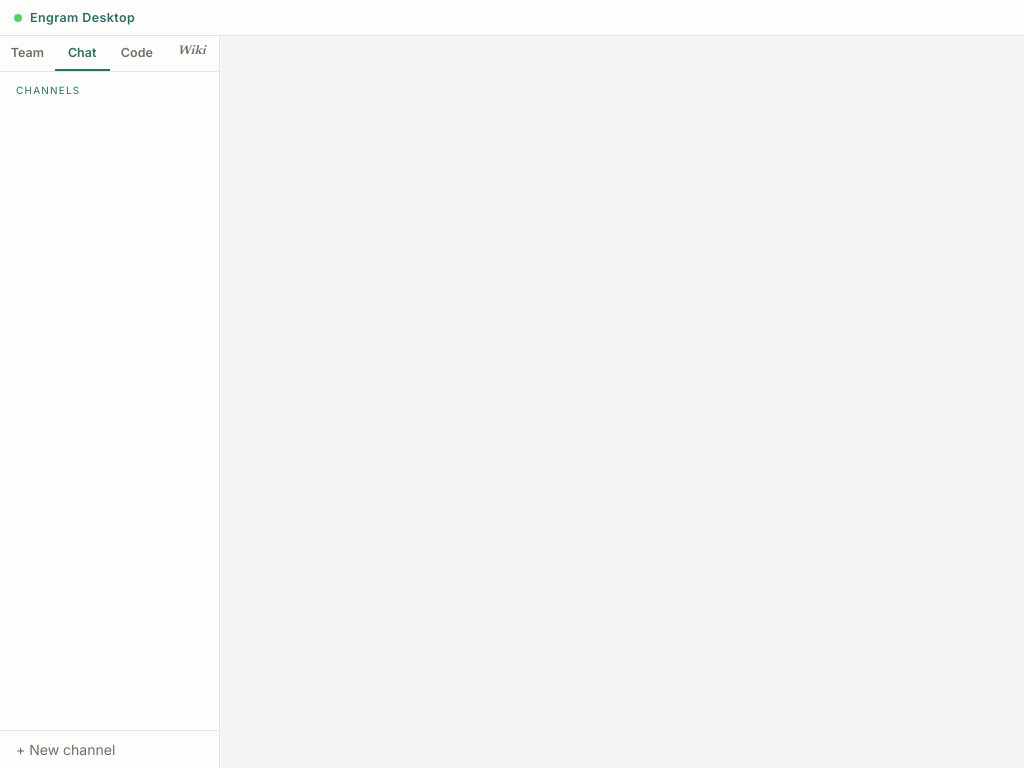
Test: team 채널은 기본 연결로만 스코프된다 — 다른 연결의 동명 team 채널·기록과 안 섞인다
Click the text "Team": click(27, 52) [11, 45, 44, 60]
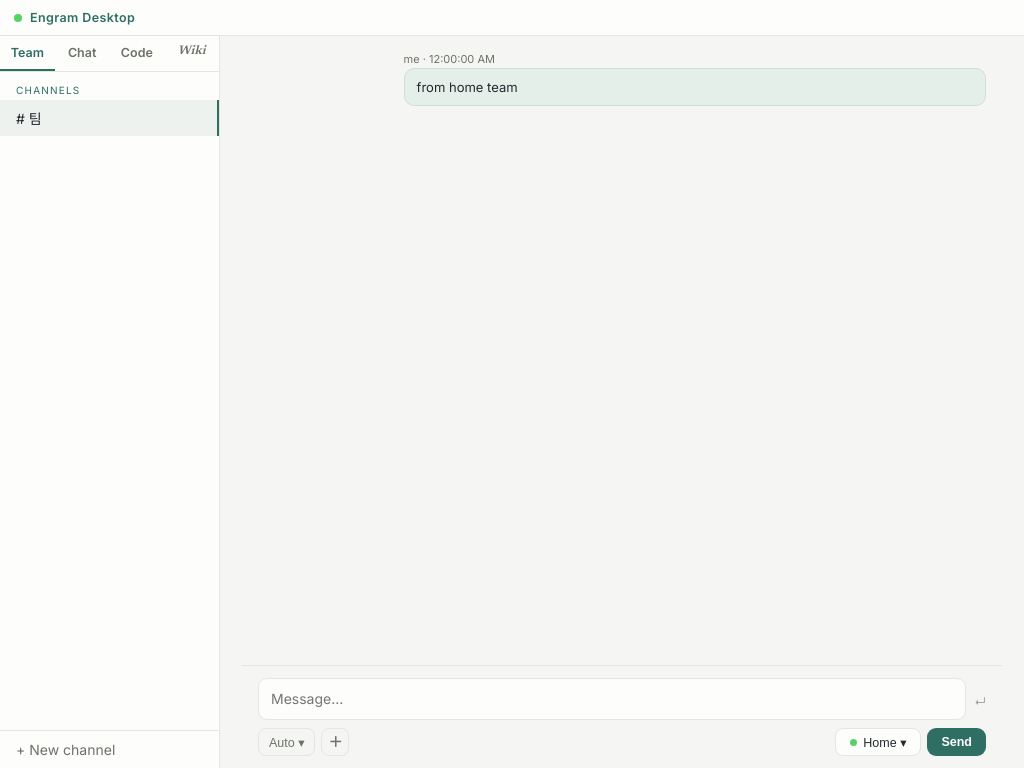
Check: the text "# 팀" is shown, box [16, 110, 42, 127]
Check: the text "from home team" is shown, box [404, 68, 986, 106]
